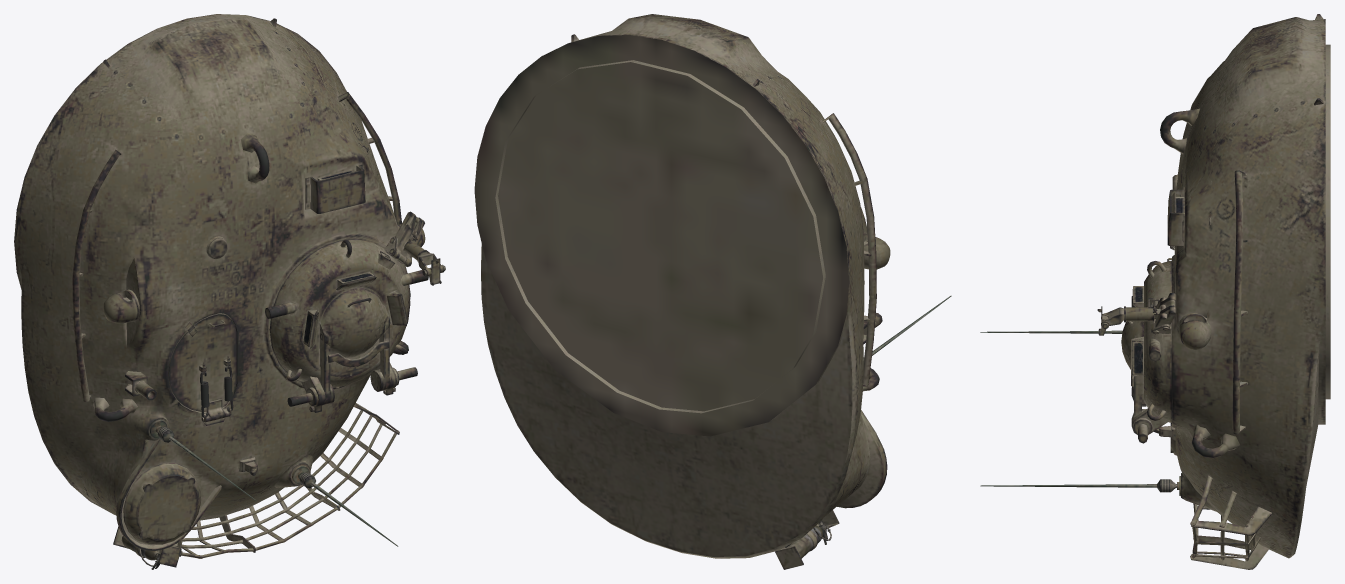
The model's file is Turret_01.glb.
3 renders of one model, left to right at view 1: azimuth 30°, elevation 25°; view 2: azimuth 150°, elevation 25°; view 3: azimuth 270°, elevation 25°, orthographic. The views are drawn at different scales.
Parts seen in each view (by area): view 1: set_0_group_0; view 2: set_0_group_0; view 3: set_0_group_0.
Boxes of the visible parts, x1=… form: set_0_group_0: x1=14, y1=14, x2=445, y2=569; set_0_group_0: x1=474, y1=14, x2=951, y2=569; set_0_group_0: x1=980, y1=14, x2=1330, y2=569.
Bounding box in the file's own units: 2.49 × 3.44 × 2.12.
1 material, 1 textured.
